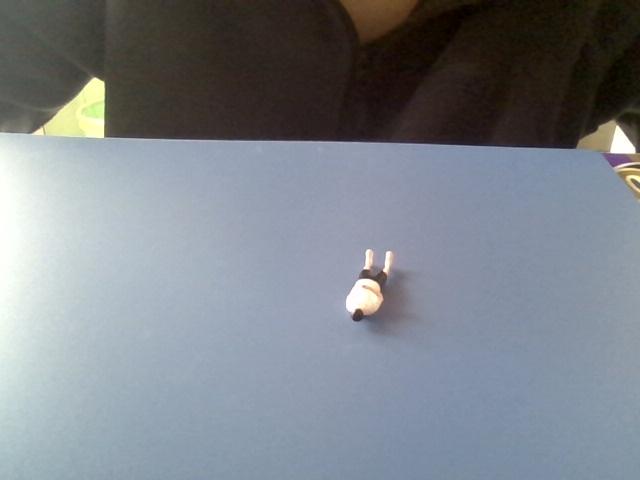fall: (342, 242, 399, 327)
